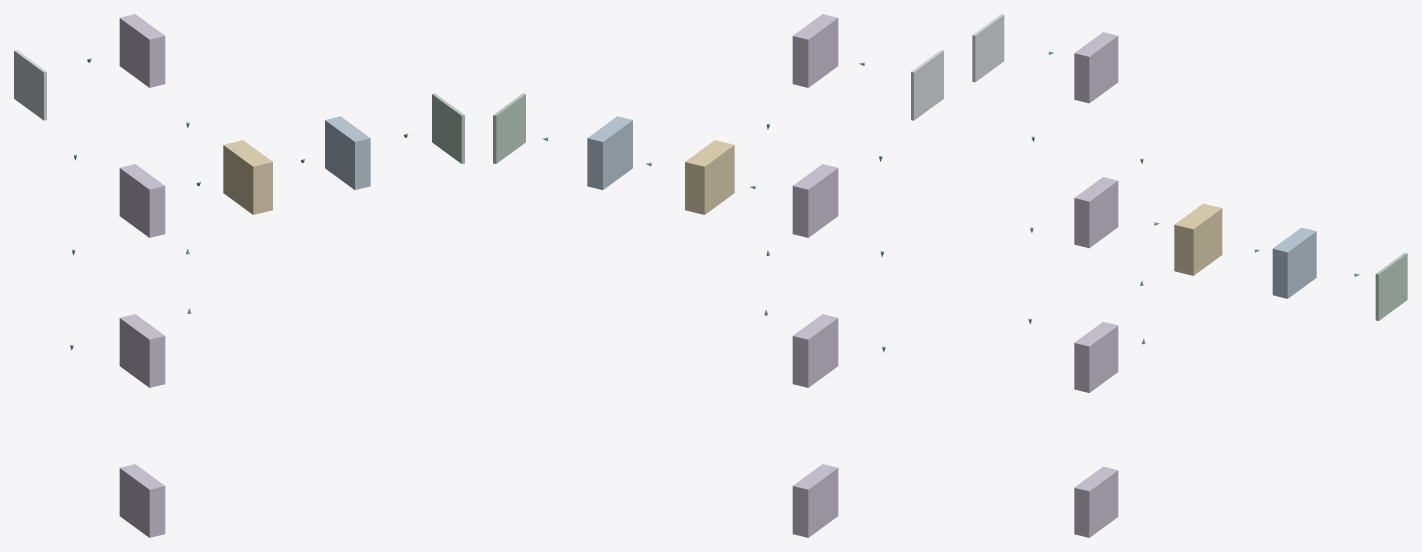
Rendered from stanet-pam.glb.
3 views of the same model, side by side, from view 1: azimuth 30°, elevation 25°; view 2: azimuth 150°, elevation 25°; view 3: azimuth 330°, elevation 25° (orthographic). The views are drawn at different scales.
Visible parts, largest first — view 1: Concat C · 256×64×128, s=2: 4 regions · 64×64×128, s=1: 1 region · 64×64×128, s=4: 16 regions · 64×64×128, s=8: 64 regions · 64×64×128, Conv1x1 / 64 · 64×64×128, Stacked dates · 64×64×128, PAM output · 64×64×128; view 2: Concat C · 256×64×128, s=2: 4 regions · 64×64×128, s=1: 1 region · 64×64×128, s=4: 16 regions · 64×64×128, s=8: 64 regions · 64×64×128, Conv1x1 / 64 · 64×64×128, Stacked dates · 64×64×128, PAM output · 64×64×128; view 3: Concat C · 256×64×128, s=4: 16 regions · 64×64×128, Conv1x1 / 64 · 64×64×128, s=8: 64 regions · 64×64×128, s=1: 1 region · 64×64×128, s=2: 4 regions · 64×64×128, Stacked dates · 64×64×128, PAM output · 64×64×128.
Part boxes in pixels (left/top/right/bottom): Concat C · 256×64×128: left=223, top=140, right=272, bottom=214; s=2: 4 regions · 64×64×128: left=119, top=164, right=165, bottom=237; s=1: 1 region · 64×64×128: left=119, top=14, right=165, bottom=87; s=4: 16 regions · 64×64×128: left=119, top=314, right=165, bottom=387; s=8: 64 regions · 64×64×128: left=119, top=464, right=165, bottom=537; Conv1x1 / 64 · 64×64×128: left=325, top=116, right=370, bottom=189; Stacked dates · 64×64×128: left=14, top=50, right=46, bottom=120; PAM output · 64×64×128: left=432, top=93, right=464, bottom=163; Concat C · 256×64×128: left=685, top=140, right=734, bottom=214; s=2: 4 regions · 64×64×128: left=792, top=164, right=838, bottom=237; s=1: 1 region · 64×64×128: left=792, top=14, right=838, bottom=87; s=4: 16 regions · 64×64×128: left=792, top=314, right=838, bottom=387; s=8: 64 regions · 64×64×128: left=792, top=464, right=838, bottom=537; Conv1x1 / 64 · 64×64×128: left=587, top=116, right=632, bottom=189; Stacked dates · 64×64×128: left=911, top=50, right=943, bottom=120; PAM output · 64×64×128: left=493, top=93, right=525, bottom=163; Concat C · 256×64×128: left=1174, top=203, right=1222, bottom=275; s=4: 16 regions · 64×64×128: left=1074, top=321, right=1118, bottom=392; Conv1x1 / 64 · 64×64×128: left=1272, top=227, right=1316, bottom=298; s=8: 64 regions · 64×64×128: left=1074, top=466, right=1118, bottom=537; s=1: 1 region · 64×64×128: left=1074, top=32, right=1118, bottom=103; s=2: 4 regions · 64×64×128: left=1074, top=177, right=1118, bottom=248; Stacked dates · 64×64×128: left=972, top=14, right=1004, bottom=82; PAM output · 64×64×128: left=1375, top=252, right=1407, bottom=320.
Size of the model in its own units: 24.57 by 27.8 by 3.03.
